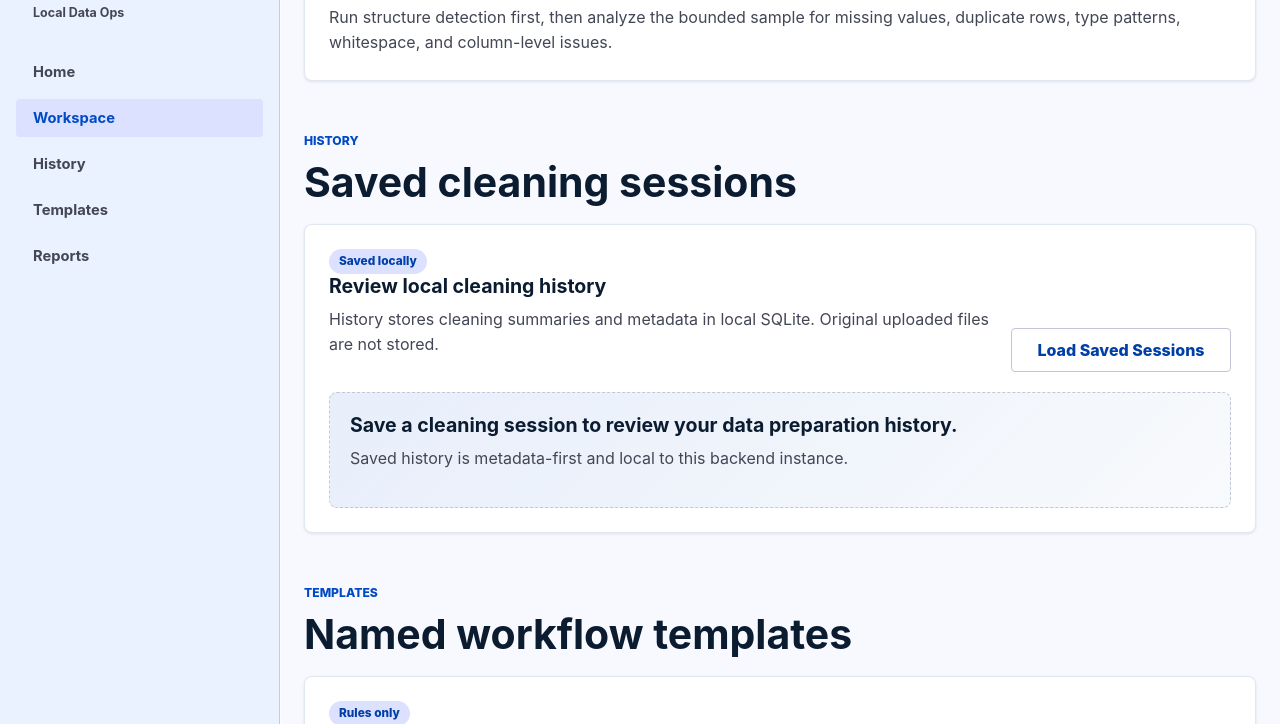
Test: App › renders saved sessions list and detail
(page scrolled)
Click the button "Load Saved Sessions": x=1121, y=350 [1011, 328, 1231, 372]
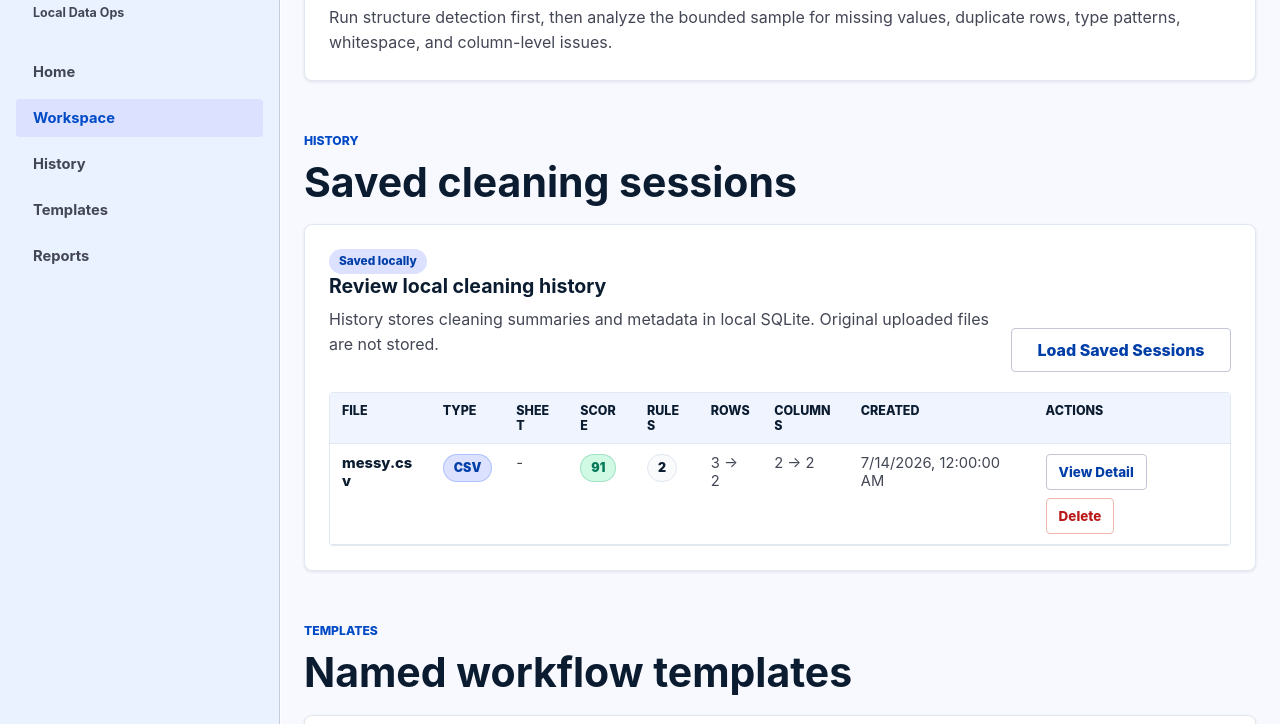
expect the element named "Saved sessions table" is shown: met, box [329, 392, 1231, 546]
expect the cell "messy.csv" is shown: met, box [330, 444, 431, 545]
expect the cell "91" is shown: met, box [568, 444, 635, 545]
Click the button "View Detail": x=1096, y=472 [1046, 454, 1147, 490]
(page scrolled)
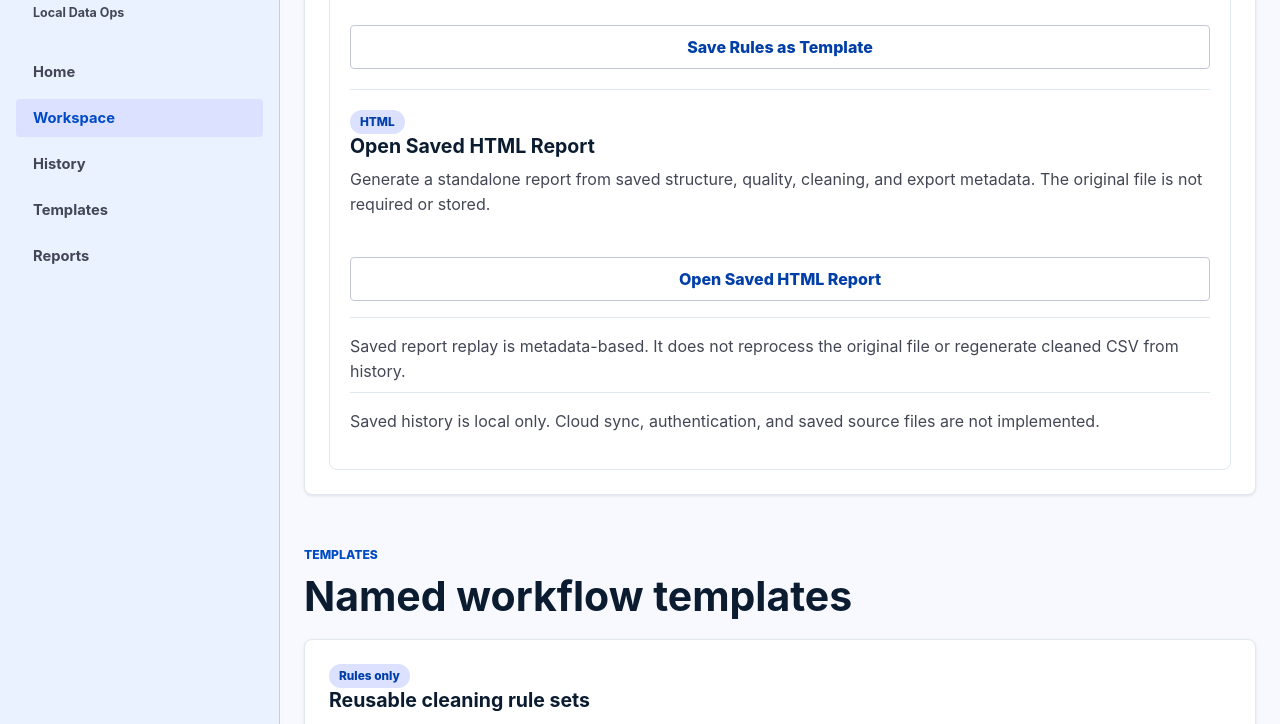
expect the button "Open Saved HTML Report" is shown: met, box [350, 257, 1210, 301]
expect the text "Saved report replay is metadata-based" is shown: met, box [350, 336, 1179, 381]
